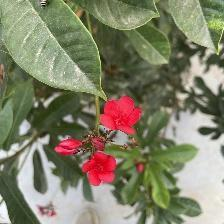jatropha: (101, 95, 145, 136), (83, 149, 119, 191)
